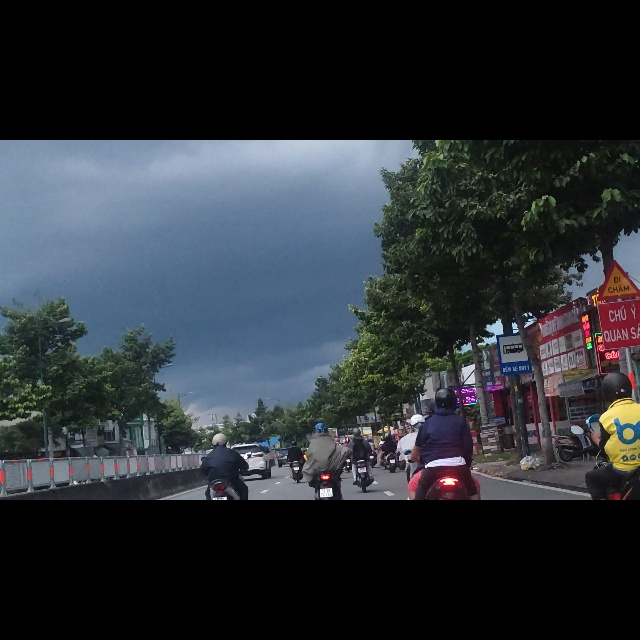bien_hieu_lenh: (597, 211, 640, 286), (496, 342, 534, 418)
